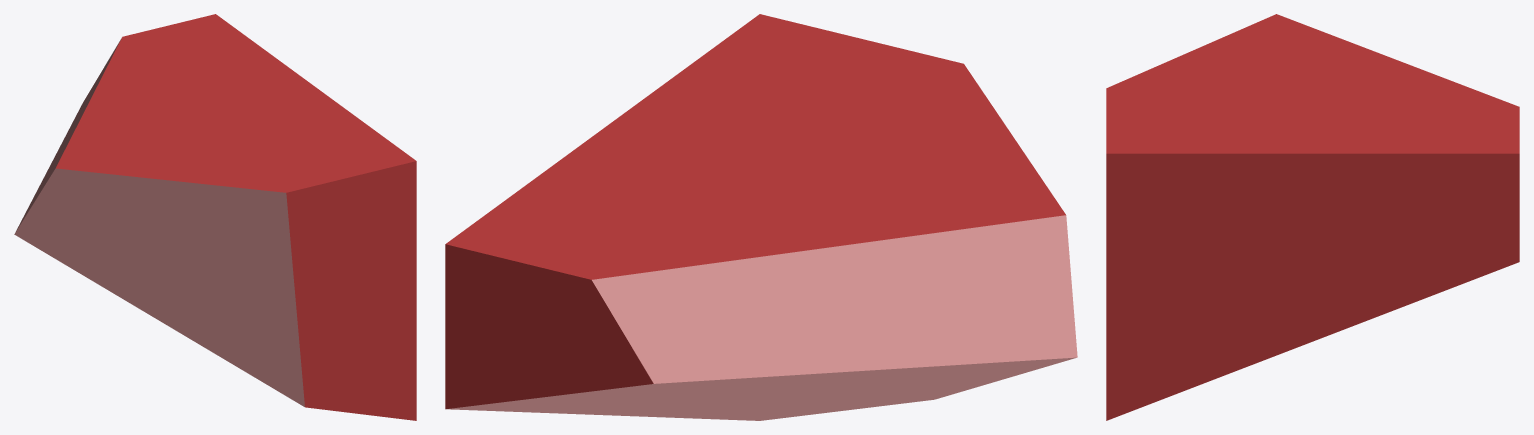
File: right.fbx
The picture shows the model from 3 angles, left to right: view 1: azimuth 30°, elevation 25°; view 2: azimuth 150°, elevation 25°; view 3: azimuth 270°, elevation 25°; orthographic projection. The views are drawn at different scales.
Visible parts, largest first — view 1: right; view 2: right; view 3: right.
Part boxes in pixels (left/top/right/bottom): right: left=14, top=14, right=416, bottom=420; right: left=445, top=14, right=1077, bottom=420; right: left=1106, top=14, right=1519, bottom=420.
Bounding box in the file's own units: 50.75 × 41.65 × 58.33.
